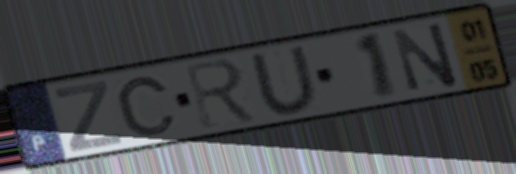1: (354, 29, 399, 104)
C: (113, 75, 180, 139)
N: (388, 19, 463, 94)
R: (181, 56, 263, 131)
U: (246, 43, 323, 117)
Z: (51, 77, 125, 154)
